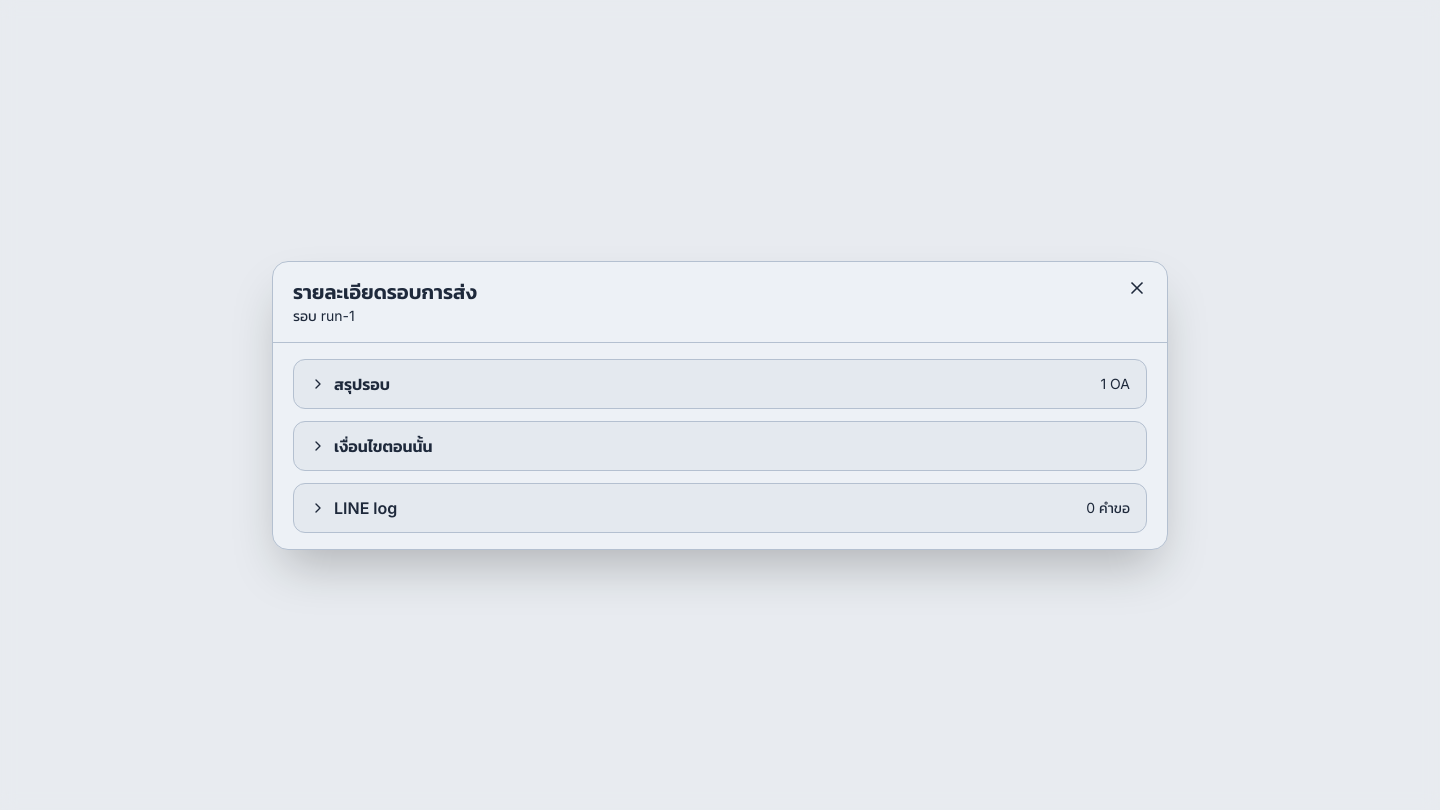
[UI-20260828-RUNFOLDED] โมดัลนี้เปิดมาต้องพับทุกส่วน › ⭐ กดหัวข้อแล้วกางได้ตามปกติ — พับไว้ ไม่ใช่ล็อกไว้
What coordinates should you click on to do the following:
click the button with test id "run-section-logs-toggle"
I would click on:
 (366, 508)
Its box is top-left (294, 484), bottom-right (1146, 532).
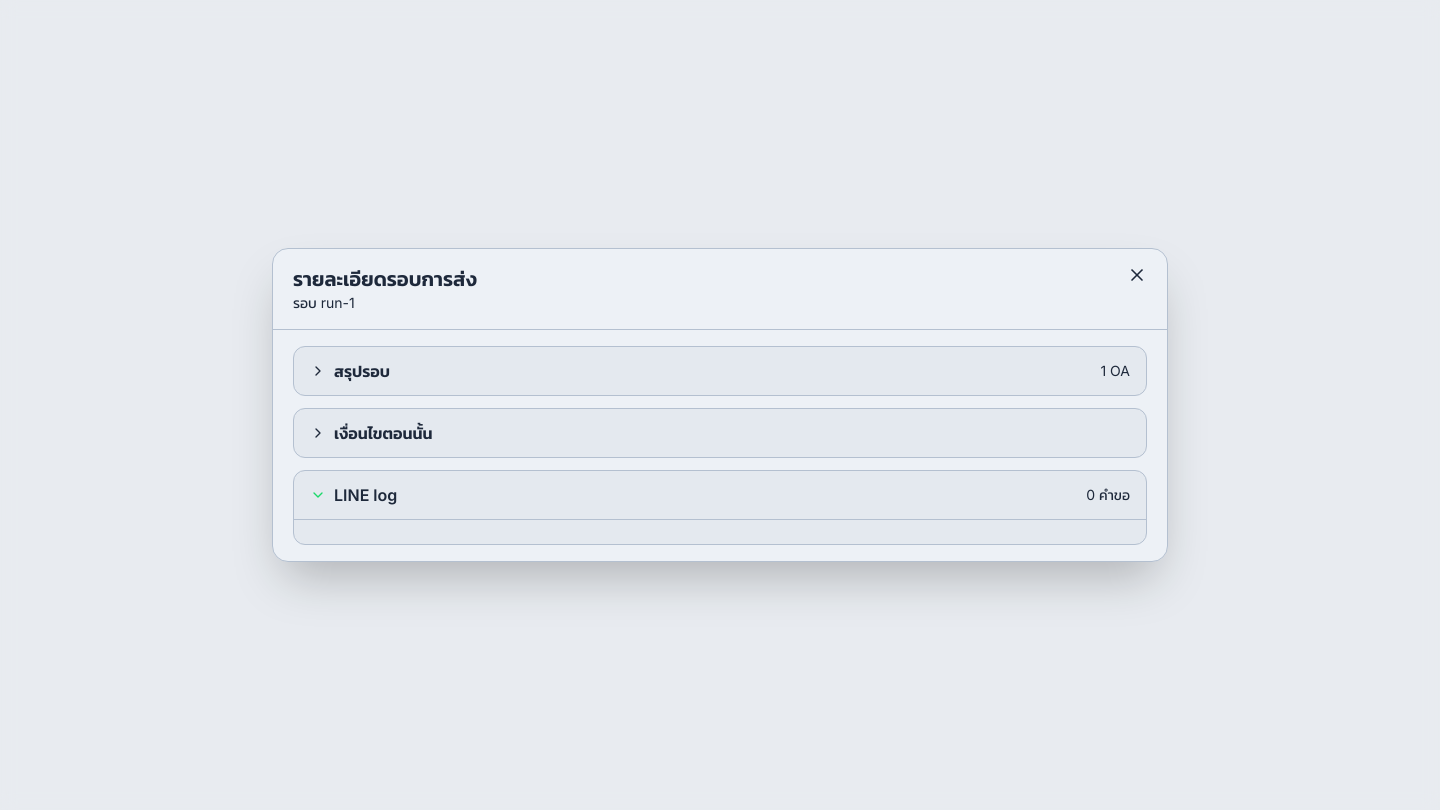
expect the element with test id "run-section-logs-body" is shown: met, box top-left (294, 519), bottom-right (1146, 544)
